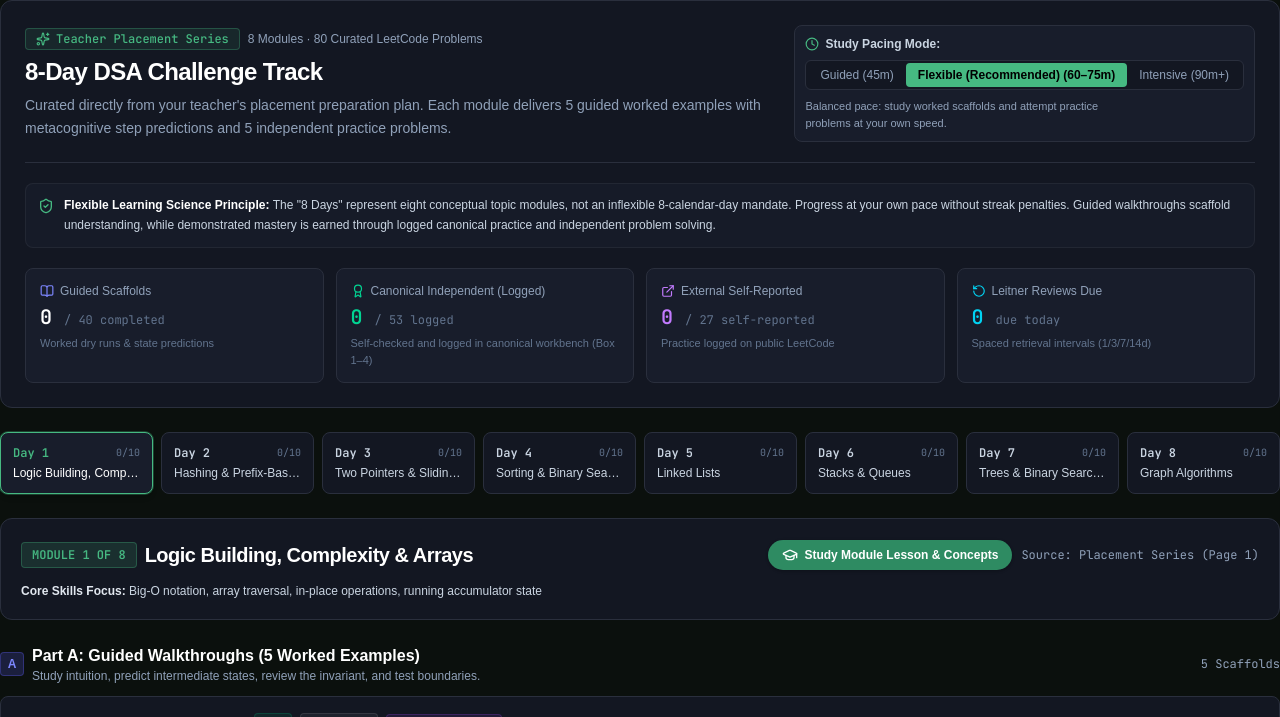
Test: TASK 174B — DSA Teaching Quality & Educational Architecture › Module Lesson Modal & Workspace Integration › opens DSAModuleLessonModal from workspace and supports interactive pre-check without mastery penalties
Expected: the text "Study Module Lesson & Concepts" is shown, [804, 547, 998, 563]
Click the button "Study Module Lesson & Concepts" at (890, 555), box [767, 539, 1013, 571]
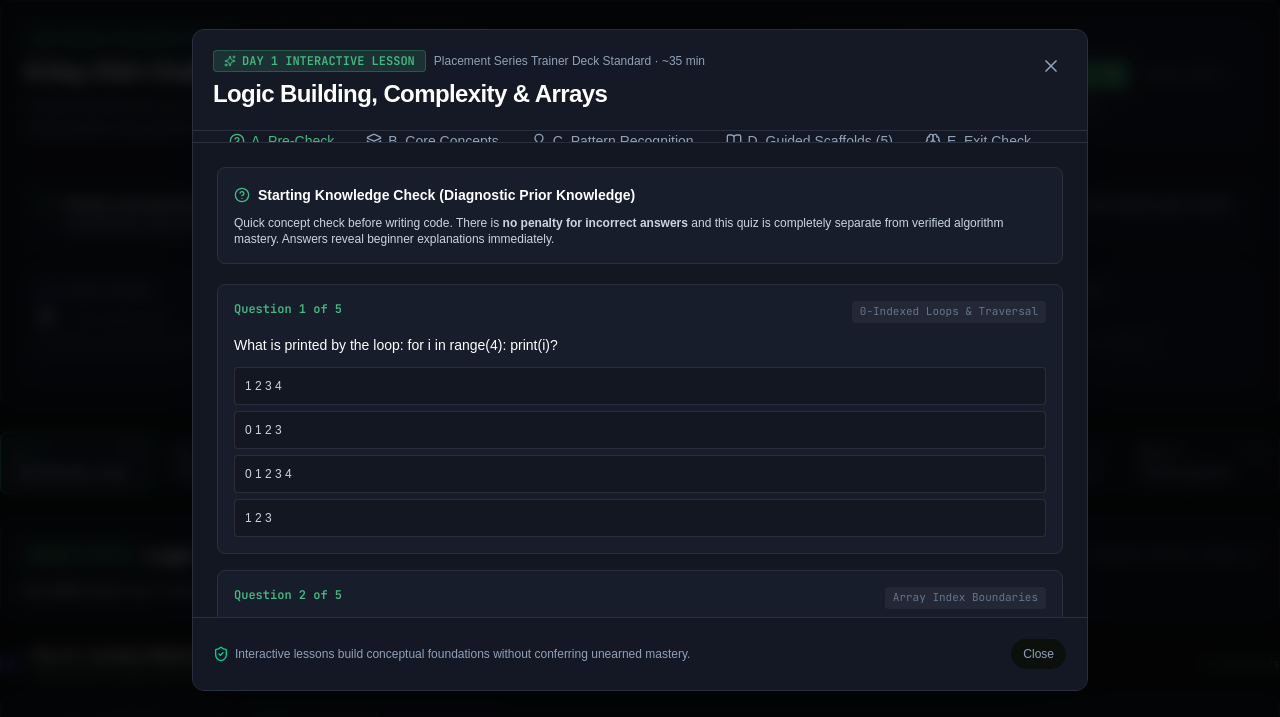
Expected: the text "DAY 1 INTERACTIVE LESSON" is shown, [213, 50, 426, 72]
Expected: the text "A. Pre-Check" is shown, [251, 131, 334, 143]
Expected: the text "B. Core Concepts" is shown, [388, 131, 499, 143]
Click the button "0 1 2 3" at (263, 430), box [234, 411, 1046, 449]
(page scrolled)
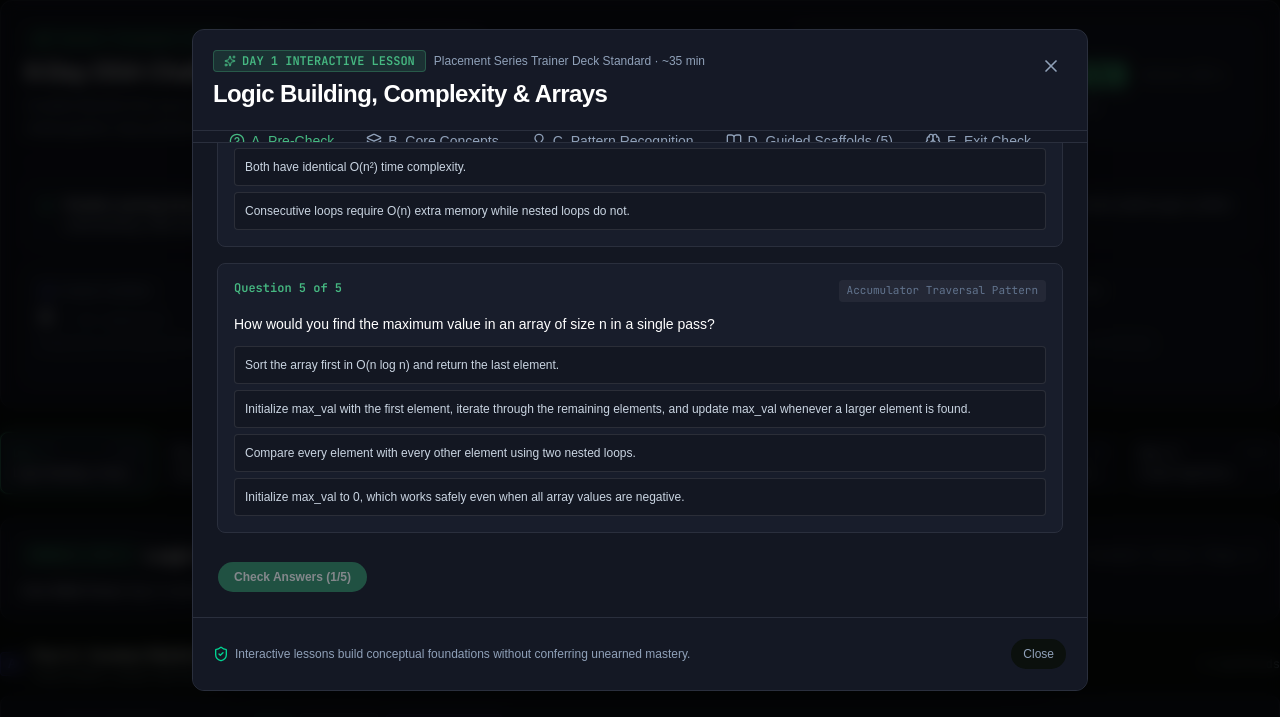
Expected: the button "Check Answers (1/5)" is shown, [217, 561, 368, 593]
